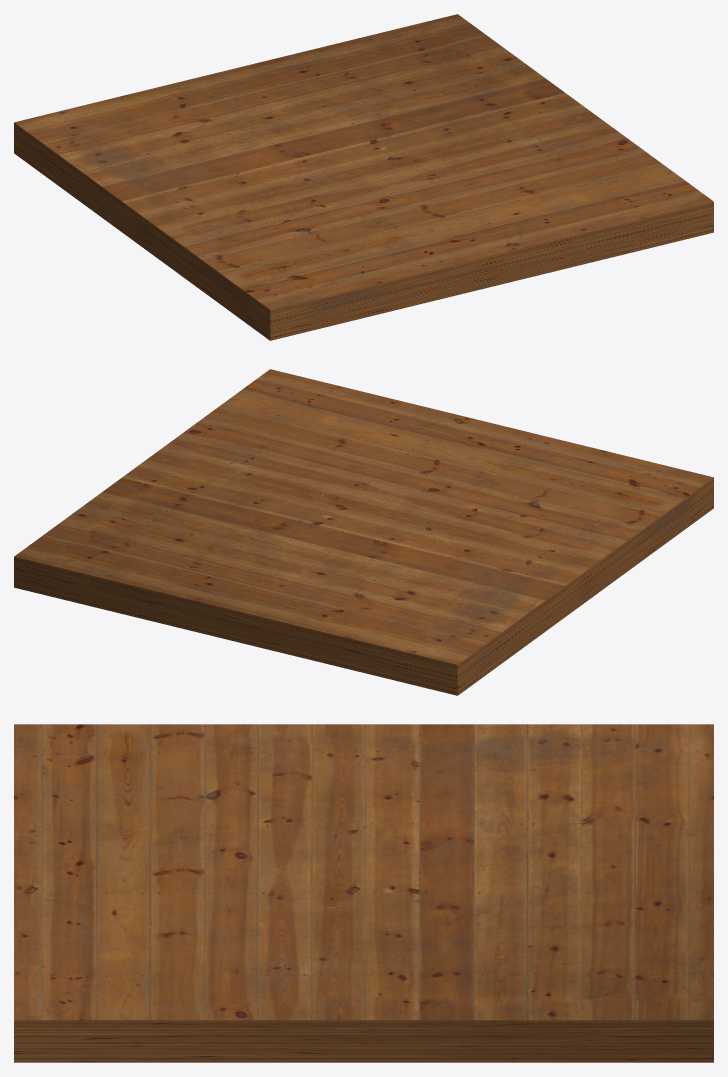
The model's file is floor_wood_worn_diagonal.glb.
The picture shows the model from 3 angles, top to bottom: view 1: azimuth 30°, elevation 25°; view 2: azimuth 150°, elevation 25°; view 3: azimuth 270°, elevation 25°; orthographic projection. The views are drawn at different scales.
Visible parts, largest first — view 1: floor_wood_worn_diagonal; view 2: floor_wood_worn_diagonal; view 3: floor_wood_worn_diagonal.
Boxes of the visible parts, x1=… form: floor_wood_worn_diagonal: x1=14, y1=14, x2=713, y2=340; floor_wood_worn_diagonal: x1=14, y1=369, x2=713, y2=695; floor_wood_worn_diagonal: x1=14, y1=724, x2=713, y2=1062.
Bounding box in the file's own units: 1.5 × 0.1 × 1.5.
Materials: 1 (1 with a texture image).
